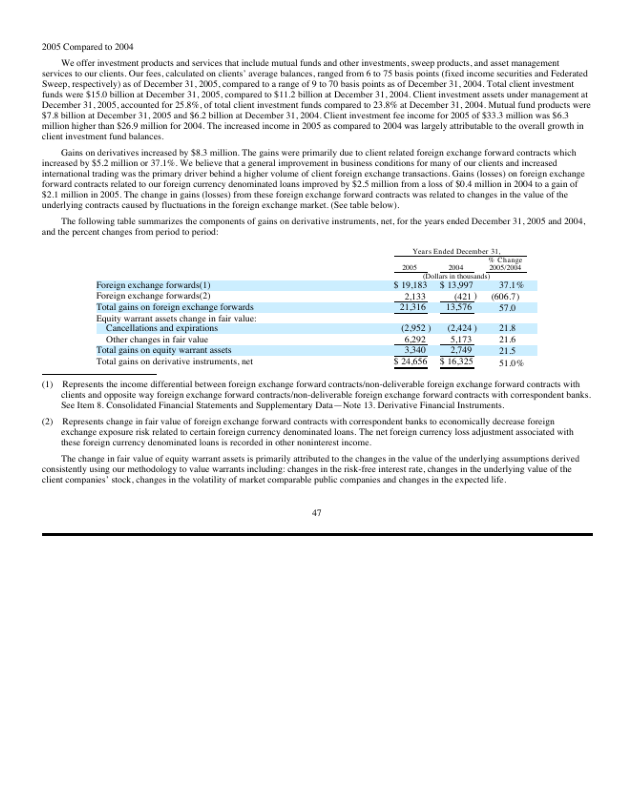table: (387, 247, 531, 372)
